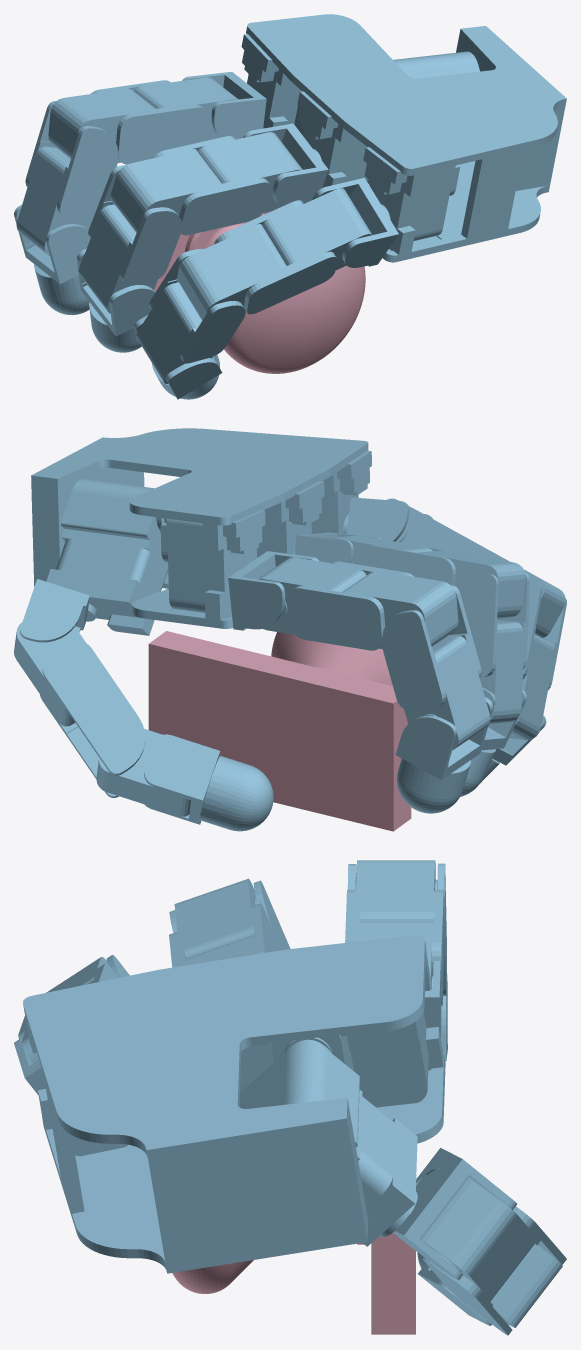
3 renders of one model, top to bottom at view 1: azimuth 30°, elevation 25°; view 2: azimuth 150°, elevation 25°; view 3: azimuth 270°, elevation 25°, orthographic. The views are drawn at different scales.
Visible parts, largest first — view 1: world; view 2: world; view 3: world.
Part boxes in pixels (box(x1,y1,x2,y2)): world: box(14, 14, 566, 399); world: box(14, 428, 566, 831); world: box(14, 860, 566, 1335).
Size of the model in its own units: 0.1928 by 0.1171 by 0.1542.
